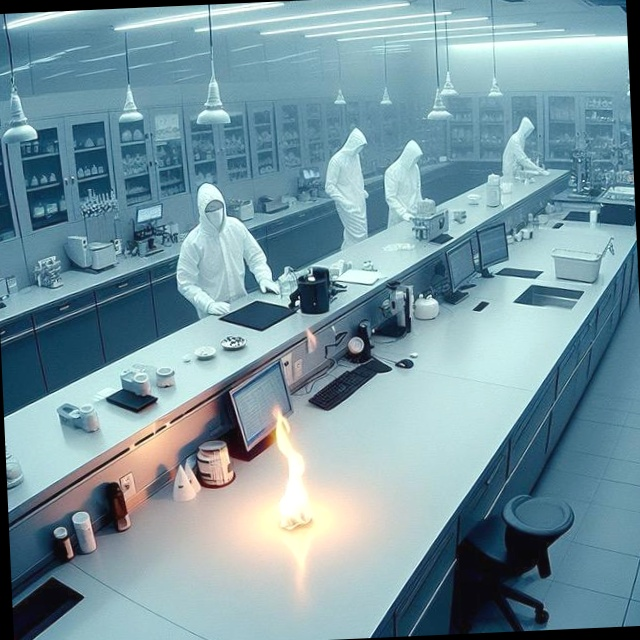fire: (237, 372, 328, 568)
